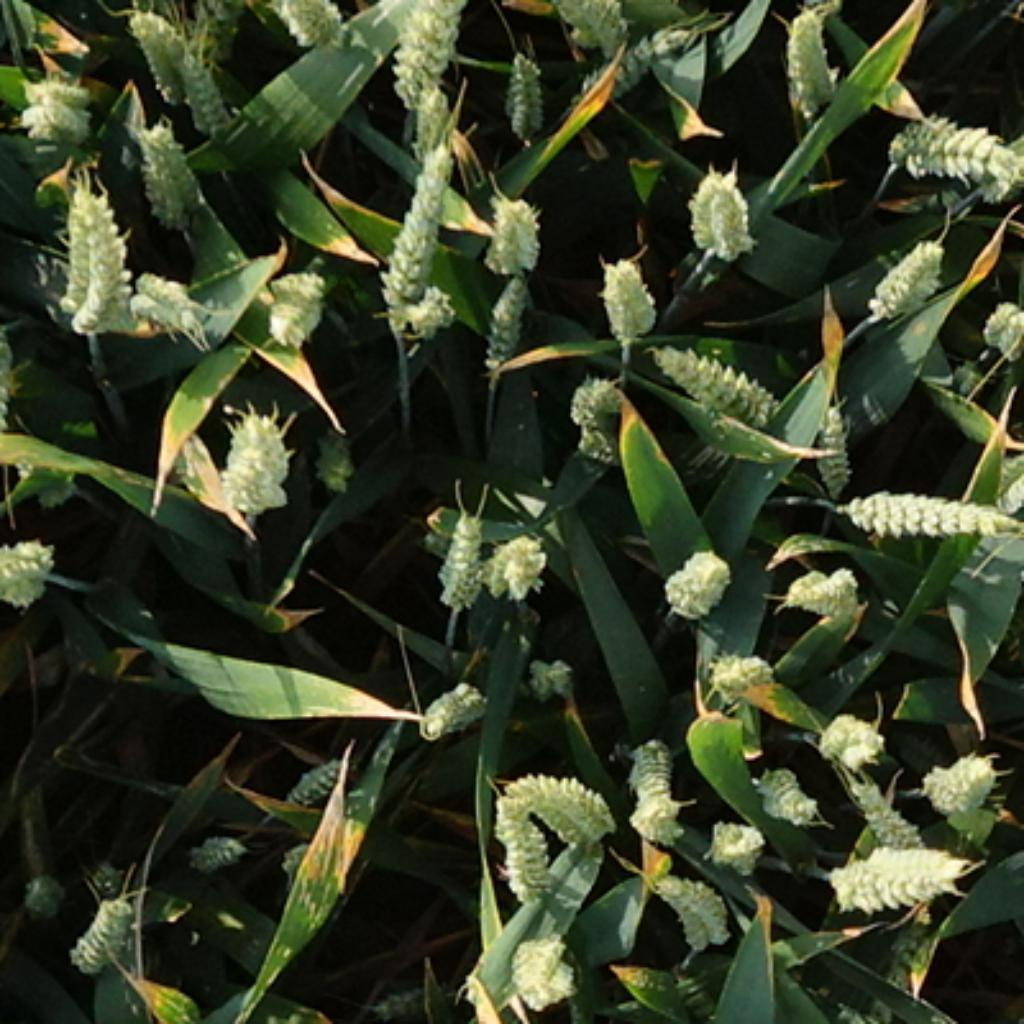0-0: (373, 138, 460, 343), (647, 330, 785, 430), (51, 171, 135, 330), (563, 25, 719, 107), (883, 97, 1024, 184), (821, 837, 970, 913), (837, 478, 1011, 540), (496, 757, 614, 844), (384, 2, 468, 102), (130, 110, 204, 220), (488, 788, 558, 903), (860, 230, 947, 322), (680, 163, 760, 263), (122, 7, 204, 104), (66, 878, 148, 972), (647, 857, 732, 947), (616, 727, 683, 839), (222, 407, 291, 512), (775, 7, 842, 112), (256, 253, 330, 343), (430, 499, 491, 606), (481, 268, 542, 368), (502, 933, 577, 1014), (15, 76, 97, 148), (593, 256, 660, 343), (844, 773, 926, 844), (916, 739, 1000, 808), (179, 58, 248, 142), (663, 545, 739, 619), (128, 263, 209, 332), (481, 181, 545, 268), (414, 675, 491, 744), (778, 558, 865, 619), (279, 737, 358, 801), (747, 752, 819, 821), (2, 535, 64, 614), (808, 391, 855, 494), (481, 529, 547, 601), (499, 43, 550, 135), (409, 71, 458, 166), (811, 701, 885, 762), (362, 975, 459, 1020), (542, 2, 634, 48), (248, 2, 350, 43), (704, 640, 775, 696), (704, 814, 768, 875), (563, 363, 629, 419), (982, 118, 1023, 202), (181, 821, 248, 870), (975, 302, 1024, 366), (309, 422, 353, 491), (517, 647, 576, 698), (407, 290, 457, 349), (19, 878, 64, 921), (1021, 512, 1024, 593)
